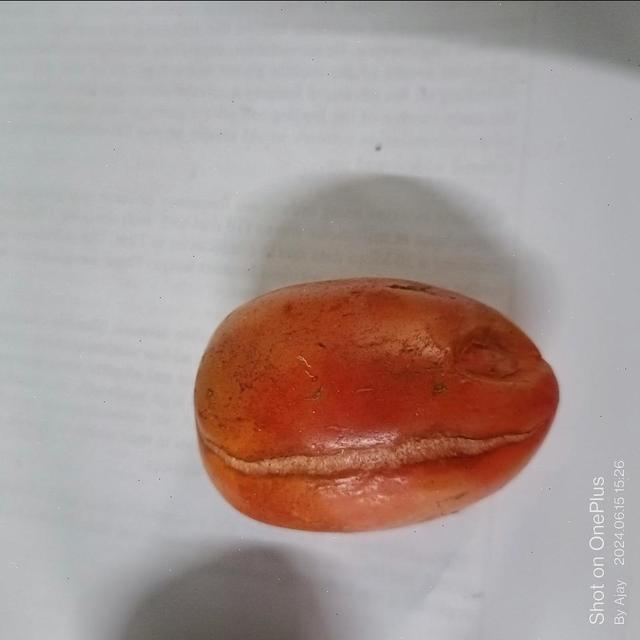Cracking Fruit: (53, 162, 242, 481)
